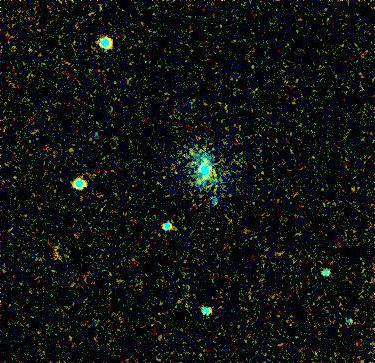star: (185, 163, 215, 193)
